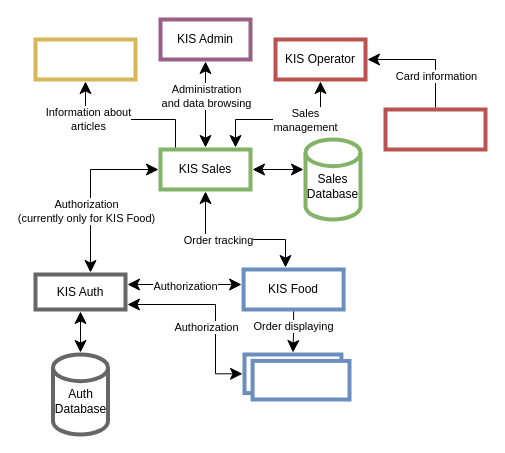
Some shapes in this 505 by 453 pixel diagram are drawn without their labels. Each missing label, with the centre of its shape:
"Kachna Online" belongs at [85,59].
"KIS Monitors" belongs at [300,379].
"KIS Reader" belongs at [435,129].
